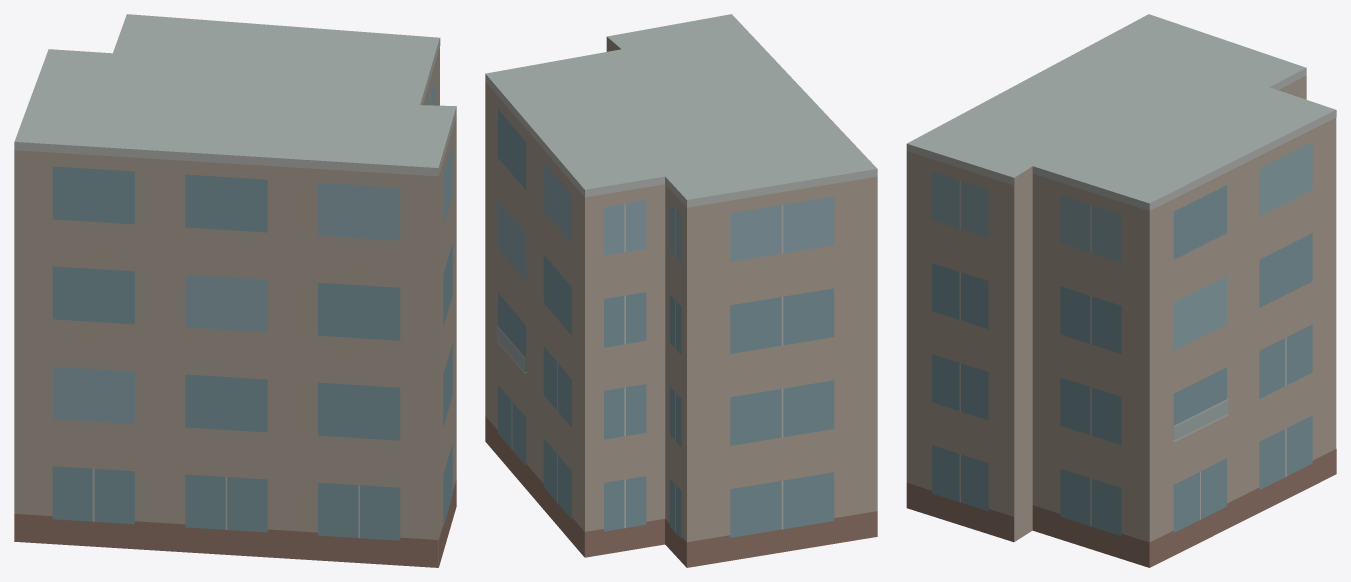
Rendered from survey-upis-33040805.glb.
3 renders of one model, left to right at view 1: azimuth 30°, elevation 25°; view 2: azimuth 150°, elevation 25°; view 3: azimuth 270°, elevation 25°, orthographic. The views are drawn at different scales.
Visible parts, largest first — view 1: survey-upis-33040805.tmp; view 2: survey-upis-33040805.tmp; view 3: survey-upis-33040805.tmp.
Boxes of the visible parts, x1=… form: survey-upis-33040805.tmp: x1=14, y1=14, x2=456, y2=567; survey-upis-33040805.tmp: x1=485, y1=14, x2=877, y2=567; survey-upis-33040805.tmp: x1=906, y1=14, x2=1336, y2=567.
Size of the model in its own units: 13.05 by 11.7 by 12.51.
